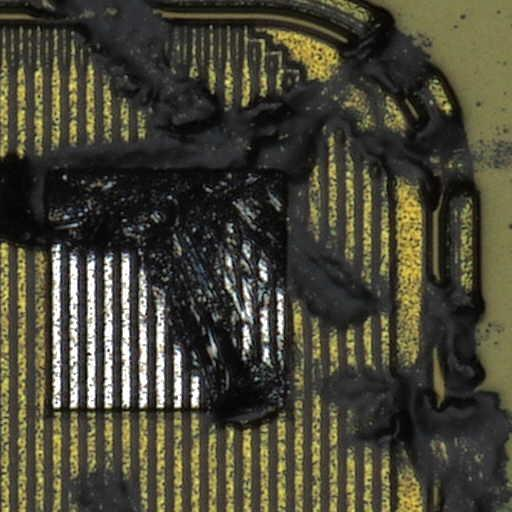SCRATCH: (1, 1, 512, 512)
